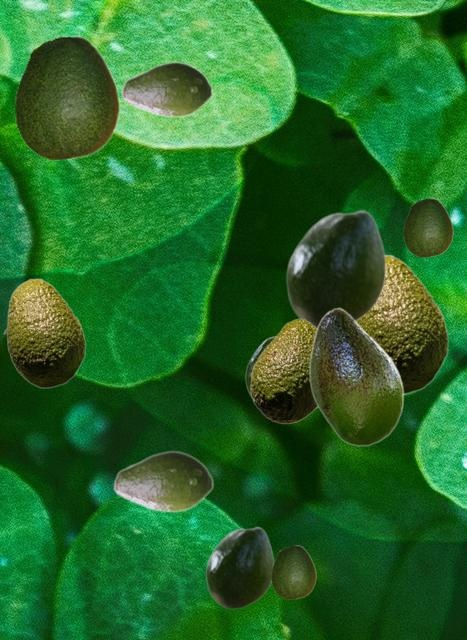avocado: (14, 35, 119, 159), (309, 307, 403, 445), (358, 254, 448, 394), (285, 209, 385, 325), (3, 278, 85, 387), (250, 318, 317, 423), (113, 450, 213, 512), (205, 526, 273, 608), (121, 61, 212, 117), (403, 198, 452, 256), (271, 545, 315, 598), (245, 336, 274, 399)
